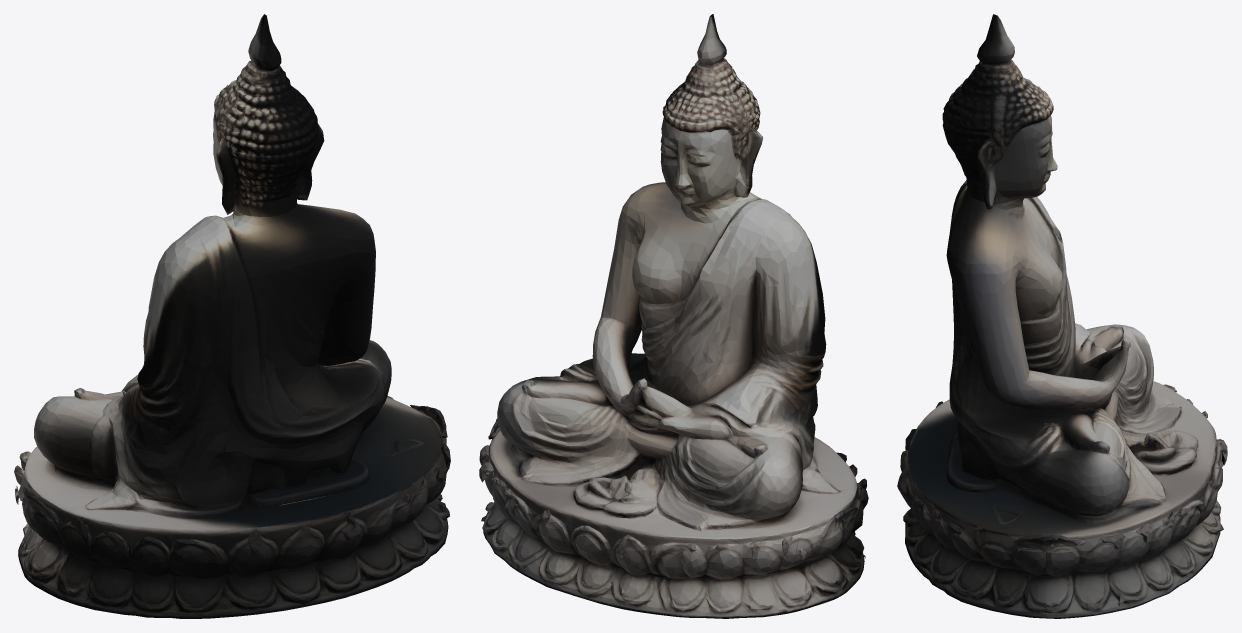
Rendered from buddy2.glb.
The picture shows the model from 3 angles, left to right: view 1: azimuth 30°, elevation 25°; view 2: azimuth 150°, elevation 25°; view 3: azimuth 270°, elevation 25°; orthographic projection. The views are drawn at different scales.
Parts seen in each view (by area): view 1: world; view 2: world; view 3: world.
Part boxes in pixels (left/top/right/bottom): world: left=14, top=14, right=450, bottom=618; world: left=479, top=14, right=868, bottom=618; world: left=897, top=14, right=1227, bottom=618.
Bounding box in the file's own units: 0.4862 × 0.6538 × 0.3807.
Materials: 1 (1 with a texture image).
